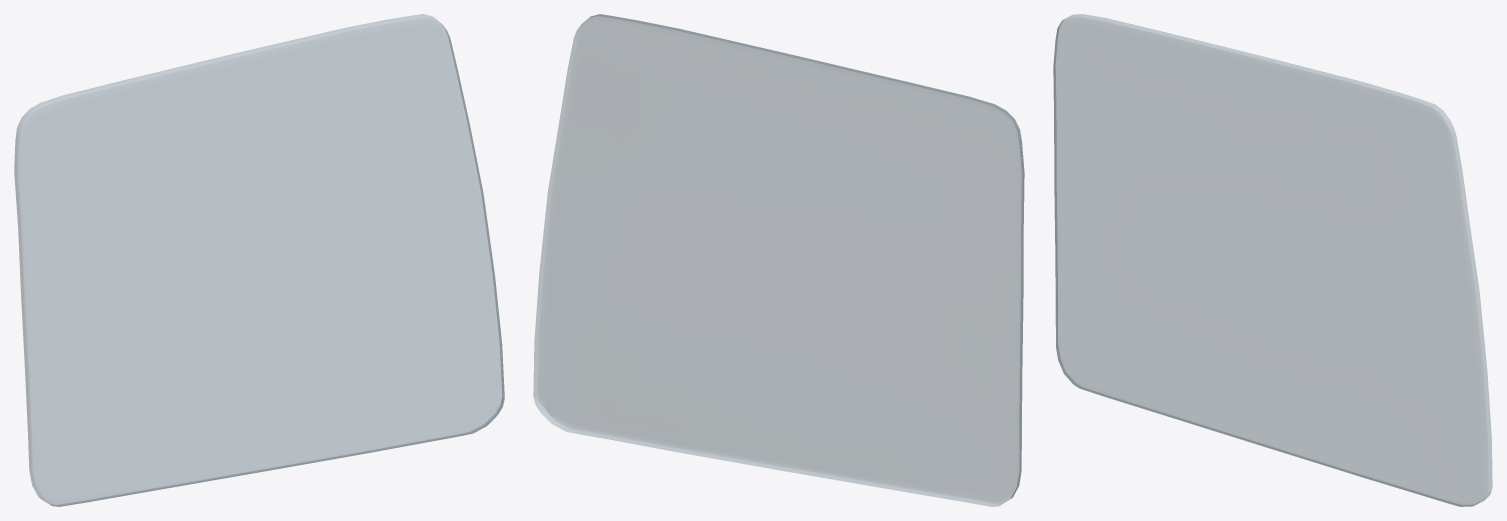
The picture shows the model from 3 angles, left to right: view 1: azimuth 30°, elevation 25°; view 2: azimuth 150°, elevation 25°; view 3: azimuth 330°, elevation 25°; orthographic projection. The views are drawn at different scales.
Visible parts, largest first — view 1: SM_ActrosFiretruck_Door_FR_Glass_Ext1; view 2: SM_ActrosFiretruck_Door_FR_Glass_Ext1; view 3: SM_ActrosFiretruck_Door_FR_Glass_Ext1.
Boxes of the visible parts, bbox=[...] form: SM_ActrosFiretruck_Door_FR_Glass_Ext1: bbox=[14, 14, 504, 506]; SM_ActrosFiretruck_Door_FR_Glass_Ext1: bbox=[533, 14, 1024, 506]; SM_ActrosFiretruck_Door_FR_Glass_Ext1: bbox=[1053, 14, 1492, 506].
Size of the model in its own units: 0.9689 by 0.8218 by 0.0447.
